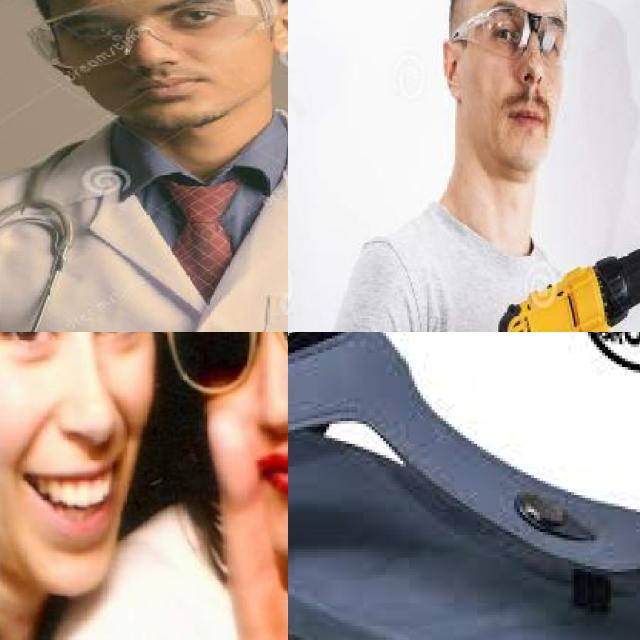No_Ear-Protection: (438, 40, 472, 104), (272, 0, 288, 51)
No_Glasses: (0, 332, 163, 354)
Sandals: (288, 332, 640, 640)
face_nomask: (0, 332, 161, 552), (173, 332, 288, 495), (56, 0, 229, 107), (479, 7, 568, 146)
glasses: (22, 0, 283, 73), (154, 332, 288, 401), (451, 2, 572, 71)
hand_noglove: (205, 395, 288, 640)
head_nohelmet: (0, 0, 288, 332)
person: (322, 0, 640, 332)
